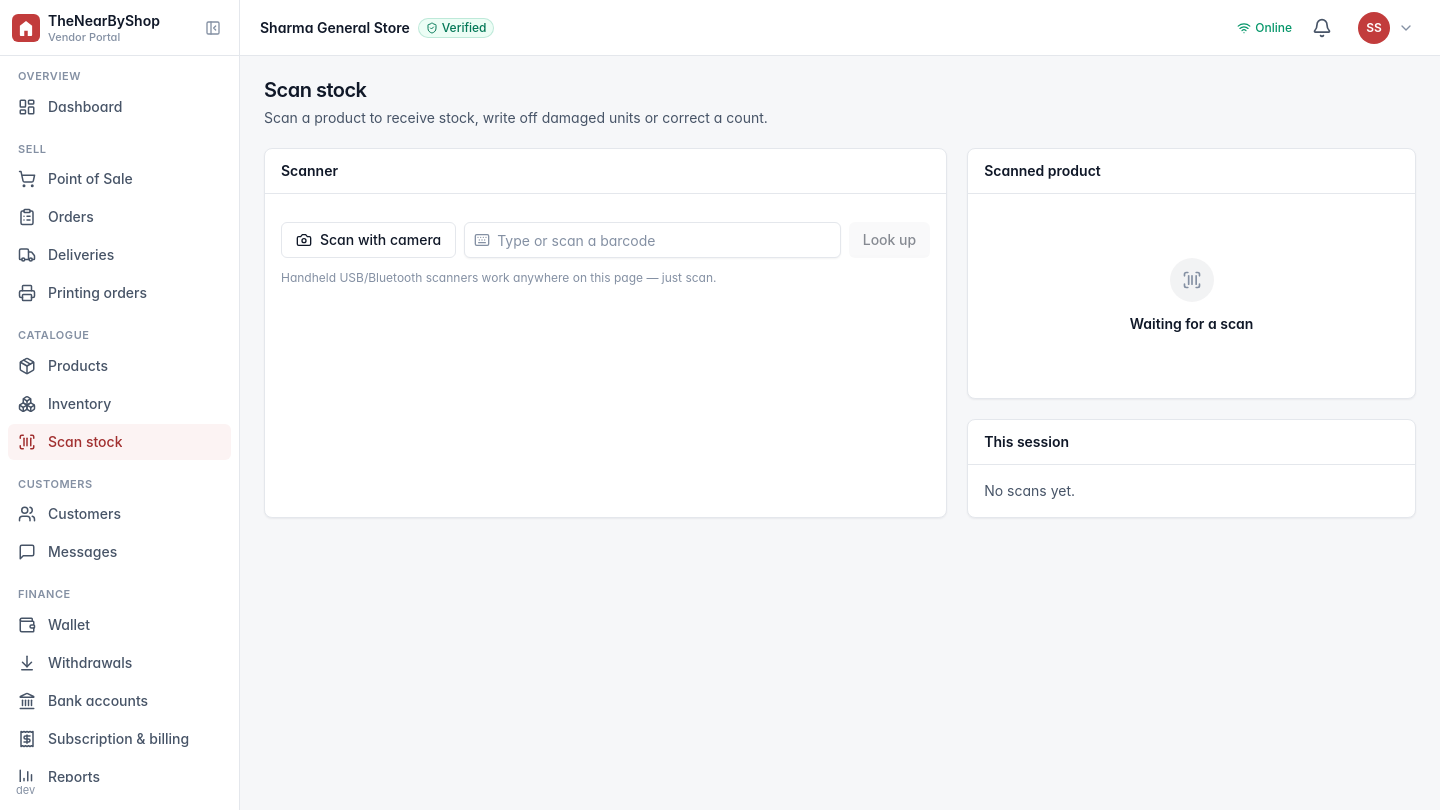
Test: scanner › offers to create a product for an unknown barcode
Type "0000000000" into the field labelled "barcode" at (652, 240), box x1=464 y1=222 x2=841 y2=258
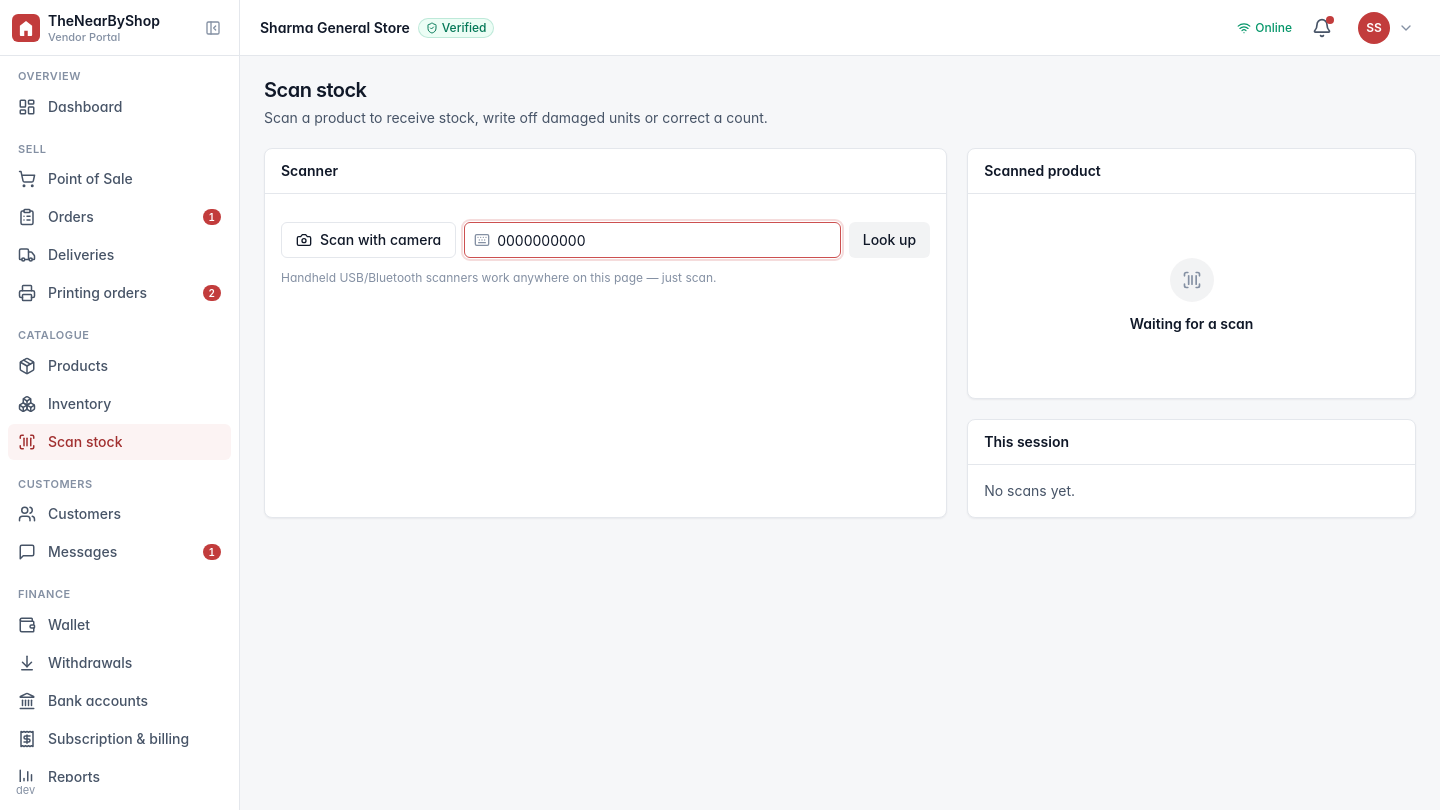
Click the button "Look up" at (889, 240), box x1=849 y1=222 x2=930 y2=258
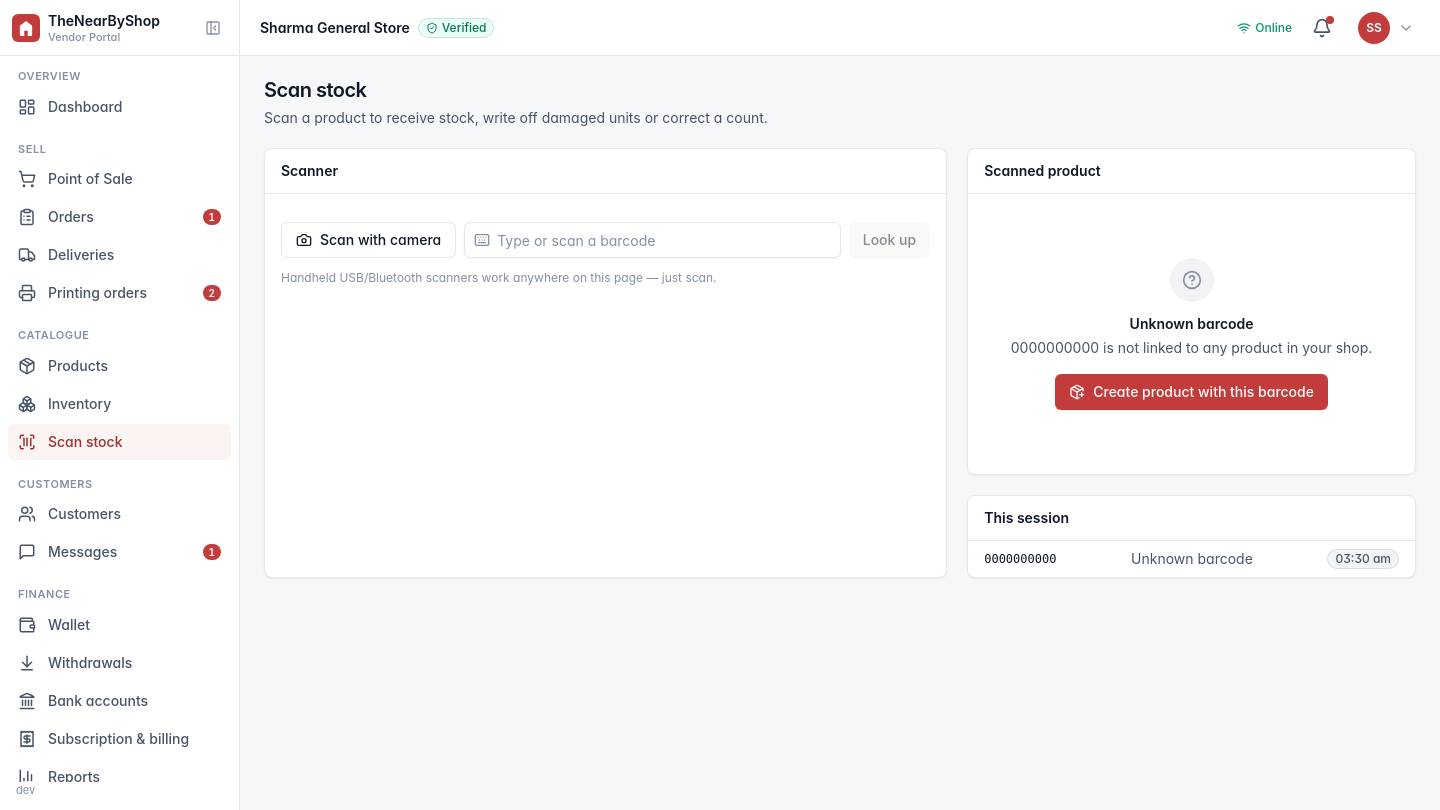
expect the heading "Unknown barcode" is shown: met, box x1=1130 y1=314 x2=1254 y2=334
